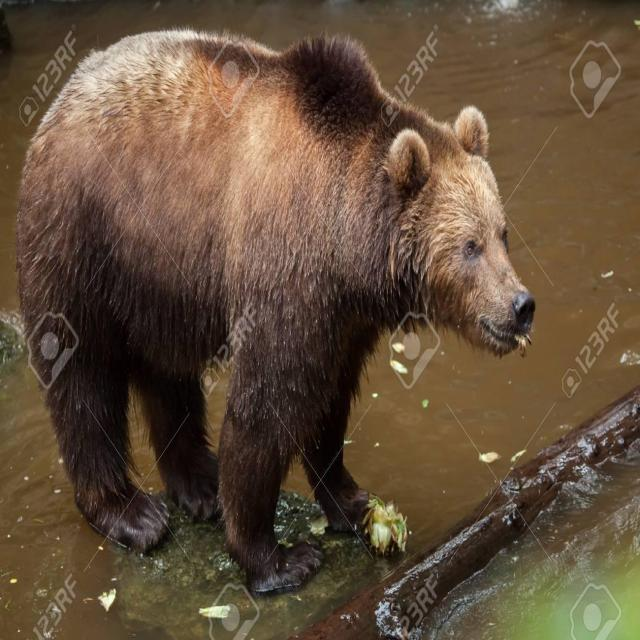Bear: (15, 29, 537, 600)
